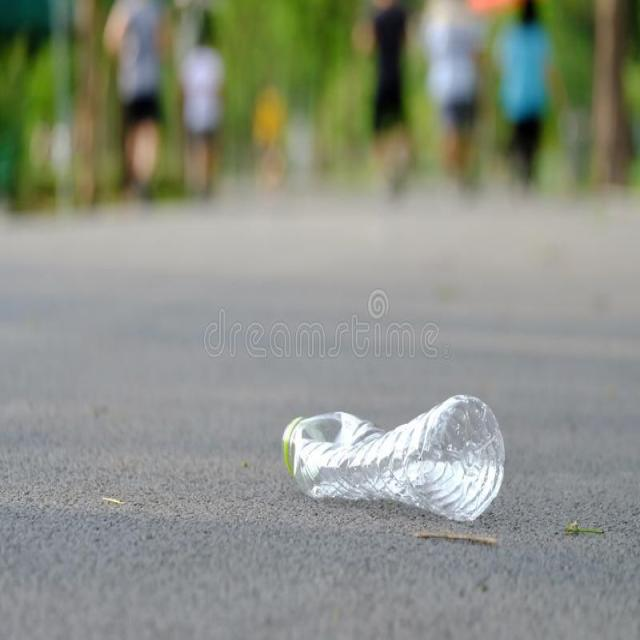bottle: (276, 387, 514, 534)
